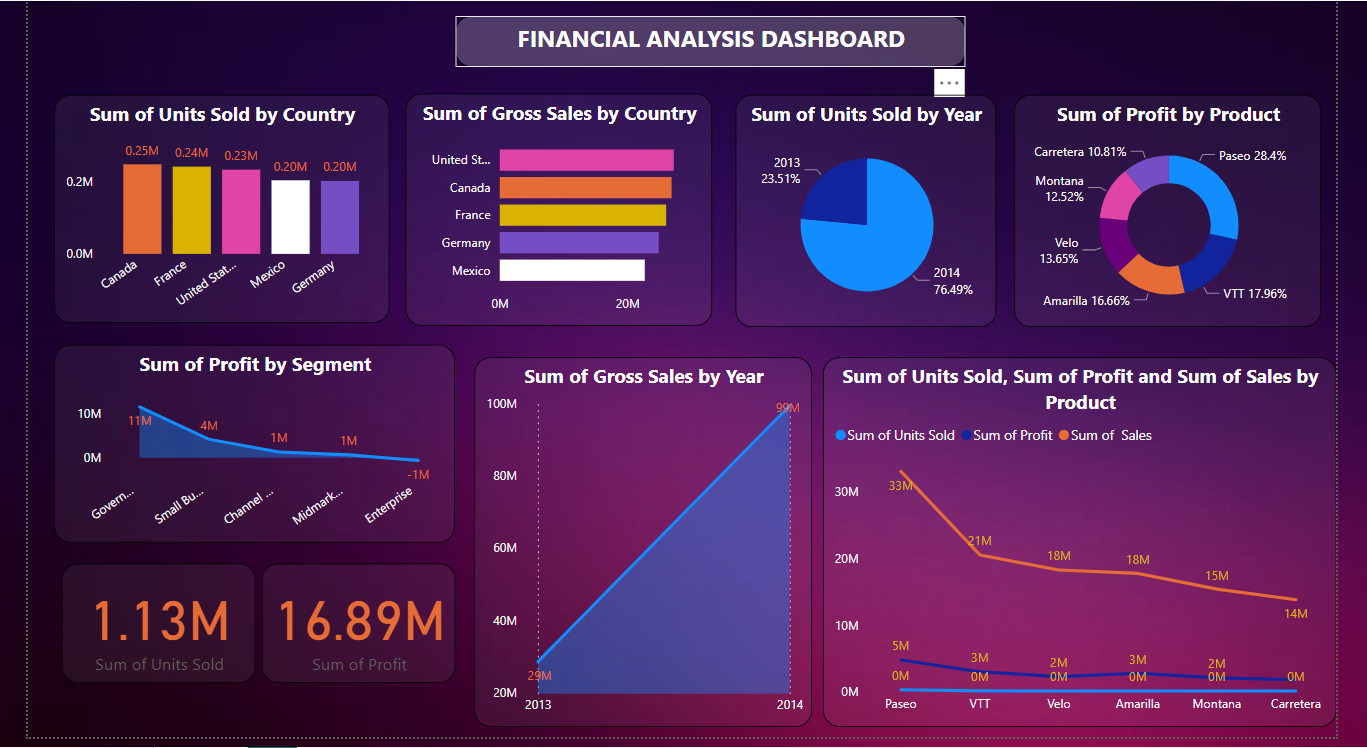

What the dashboard file says about the page in this screenshot:
{"tool":"powerbi","page":{"name":"Page 1","canvas":[1280,720],"ordinal":0},"visuals":[{"type":"barChart","fields":{"Category":["Sheet1.Country"],"Y":["Sum(Sheet1.Gross Sales)"]},"box":[368.8,90.5,300.3,227.6],"z":0},{"type":"textbox","title":"FINANCIAL ANALYSIS DASHBOARD","box":[418.2,15.1,499.1,49.4],"z":1000},{"type":"clusteredColumnChart","fields":{"Category":["Sheet1.Country"],"Y":["Sum(Sheet1.Units Sold)"]},"box":[26,91.9,327.7,223.5],"z":2000},{"type":"areaChart","fields":{"Category":["Sheet1.Segment"],"Y":["Sum(Sheet1.Profit)"]},"box":[26,335.9,392.1,193.3],"z":3000},{"type":"areaChart","fields":{"Y":["Sum(Sheet1.Gross Sales)"],"Category":["Sheet1.Year"]},"box":[436,348.2,330.4,362],"z":4000},{"type":"pieChart","fields":{"Category":["Sheet1.Year"],"Y":["Sum(Sheet1.Units Sold)"]},"box":[692.4,91.9,255,227.6],"z":5000},{"type":"lineChart","fields":{"Category":["Sheet1.Product"],"Y":["Sum(Sheet1.Units Sold)","Sum(Sheet1.Profit)","Sum(Sheet1. Sales)"]},"box":[777.5,348.4,502.4,361.8],"z":6000},{"type":"donutChart","fields":{"Y":["Sum(Sheet1.Profit)"],"Category":["Sheet1.Product"]},"box":[965.2,91.9,300.3,227.6],"z":7000},{"type":"card","fields":{"Values":["Sum(Sheet1.Units Sold)"]},"box":[32.9,549.8,189.2,116.5],"z":8000},{"type":"card","fields":{"Values":["Sum(Sheet1.Profit)"]},"box":[229,549.8,189.2,116.5],"z":9000}]}

Visuals, with their boxes in screenshot pixels (x1, y1, x2, y2), scaled from the page's 1280x720 canvas onto the 1367x748 screenshot:
barChart - Sheet1.Country x Sum(Sheet1.Gross Sales): select_region(394, 94, 715, 330)
"FINANCIAL ANALYSIS DASHBOARD" textbox: select_region(447, 16, 980, 67)
clusteredColumnChart - Sheet1.Country x Sum(Sheet1.Units Sold): select_region(28, 95, 378, 328)
areaChart - Sheet1.Segment x Sum(Sheet1.Profit): select_region(28, 349, 447, 550)
areaChart - Sum(Sheet1.Gross Sales) x Sheet1.Year: select_region(466, 362, 818, 738)
pieChart - Sheet1.Year x Sum(Sheet1.Units Sold): select_region(739, 95, 1012, 332)
lineChart - Sheet1.Product x Sum(Sheet1.Units Sold): select_region(830, 362, 1366, 738)
donutChart - Sum(Sheet1.Profit) x Sheet1.Product: select_region(1031, 95, 1352, 332)
card - Sum(Sheet1.Units Sold): select_region(35, 571, 237, 692)
card - Sum(Sheet1.Profit): select_region(245, 571, 447, 692)
